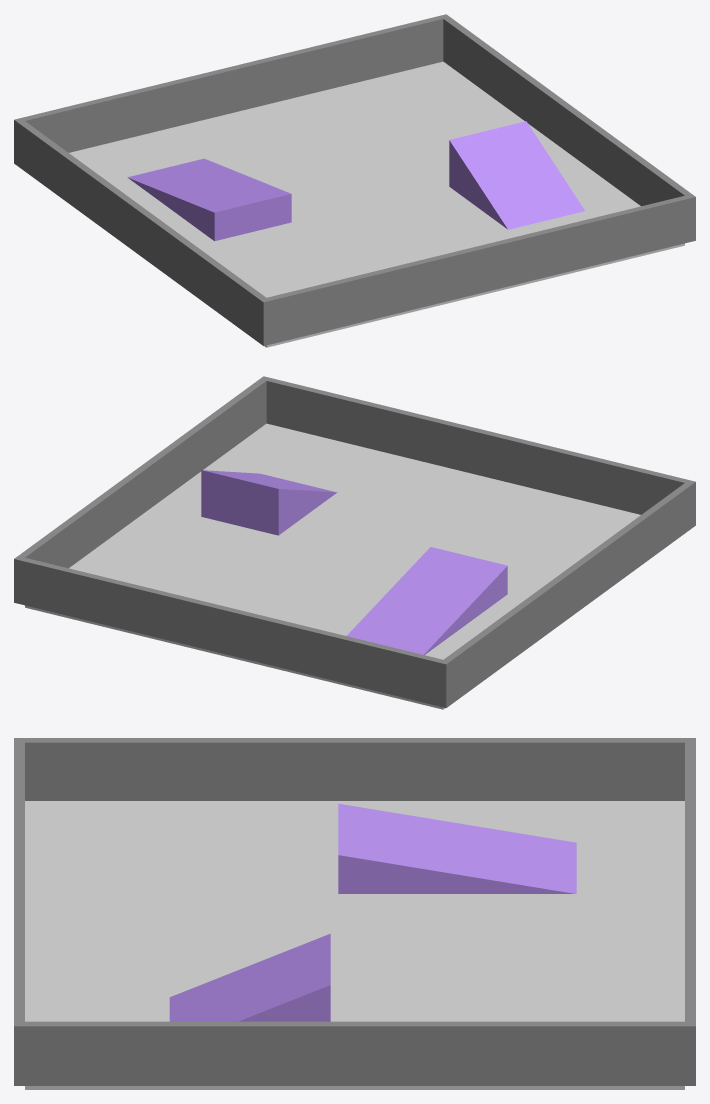
File: Map.glb
3 views of the same model, one above another, from view 1: azimuth 30°, elevation 25°; view 2: azimuth 150°, elevation 25°; view 3: azimuth 270°, elevation 25° (orthographic). The views are drawn at different scales.
Parts seen in each view (by area): view 1: Floor, Wall.004, Wall.003, Wall.002, Wall.001, Ramp.001, Ramp.002; view 2: Floor, Wall.003, Wall.004, Wall.002, Wall.001, Ramp.002, Ramp.001; view 3: Floor, Wall.001, Wall.002, Ramp.002, Ramp.001, Wall.003, Wall.004.
Boxes of the visible parts, x1,y1,x2,y2 form: Floor: (69,61,684,347); Wall.004: (259,194,695,345); Wall.003: (14,14,449,165); Wall.002: (18,121,265,342); Wall.001: (443,17,691,206); Ramp.001: (449,121,584,229); Ramp.002: (127,158,291,241); Floor: (25,423,640,709); Wall.003: (14,556,450,707); Wall.004: (260,376,695,527); Wall.002: (444,483,691,704); Wall.001: (18,379,266,568); Ramp.002: (347,547,507,654); Ramp.001: (201,470,336,535); Floor: (25,801,684,1089); Wall.001: (25,1021,684,1085); Wall.002: (25,738,684,800); Ramp.002: (338,803,576,893); Ramp.001: (169,933,330,1021); Wall.003: (685,738,695,1085); Wall.004: (14,738,24,1085).
Bounding box in the file's own units: 31 × 3.7 × 31.
